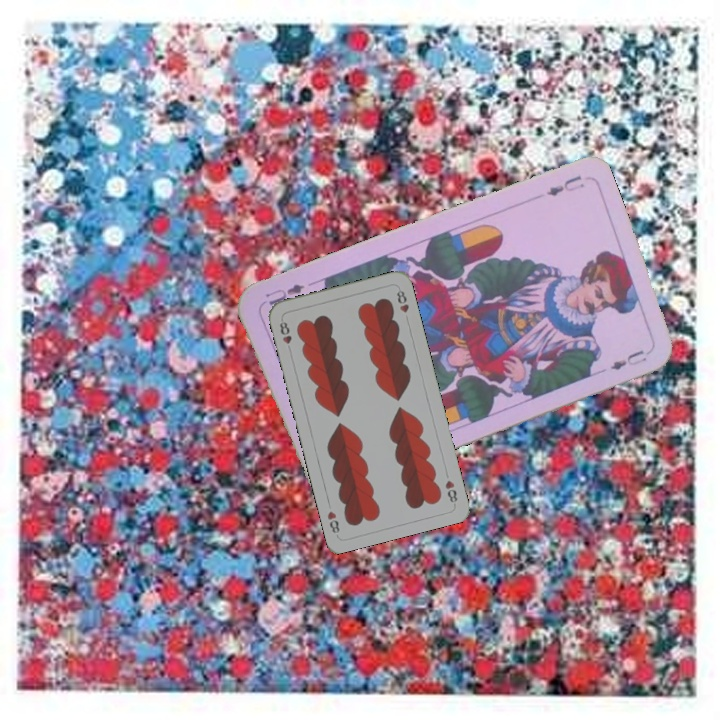EU: (542, 171, 587, 199)
H8: (441, 476, 460, 507), (275, 318, 294, 347)
